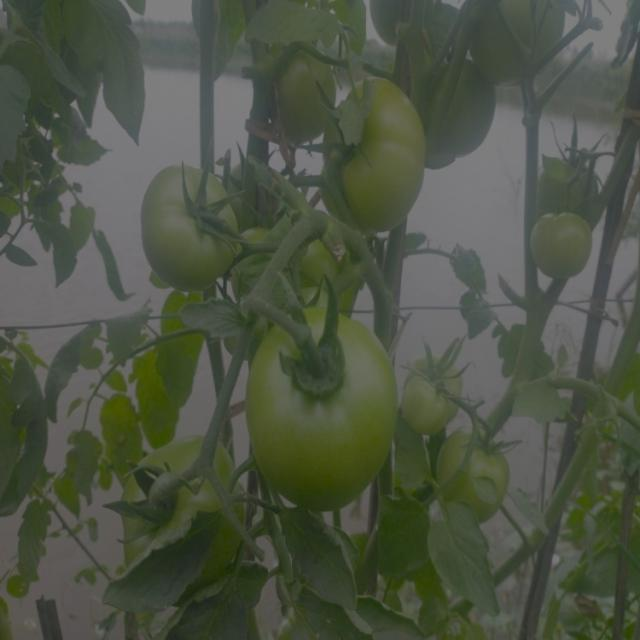tomato: (247, 301, 399, 507), (109, 432, 247, 573), (330, 80, 431, 225), (137, 156, 238, 279), (250, 36, 335, 137), (476, 1, 576, 80), (435, 421, 515, 517), (257, 210, 337, 296), (404, 347, 466, 426), (540, 146, 605, 220), (528, 214, 599, 281)
